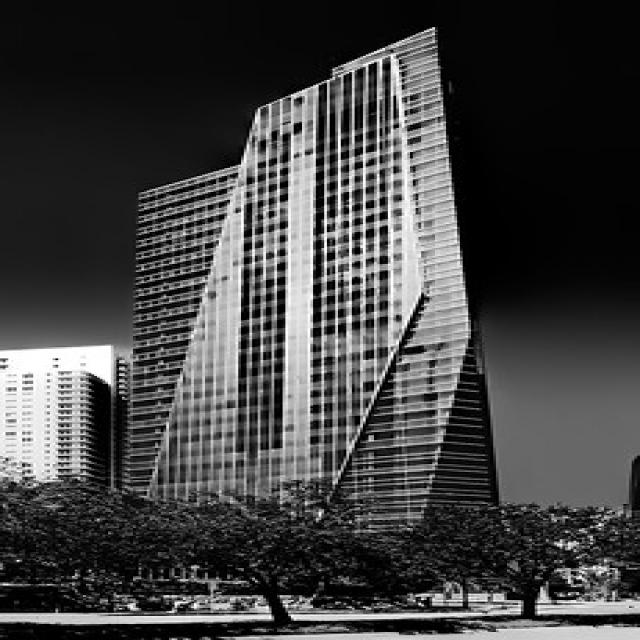Normal_building: (115, 22, 508, 606)
